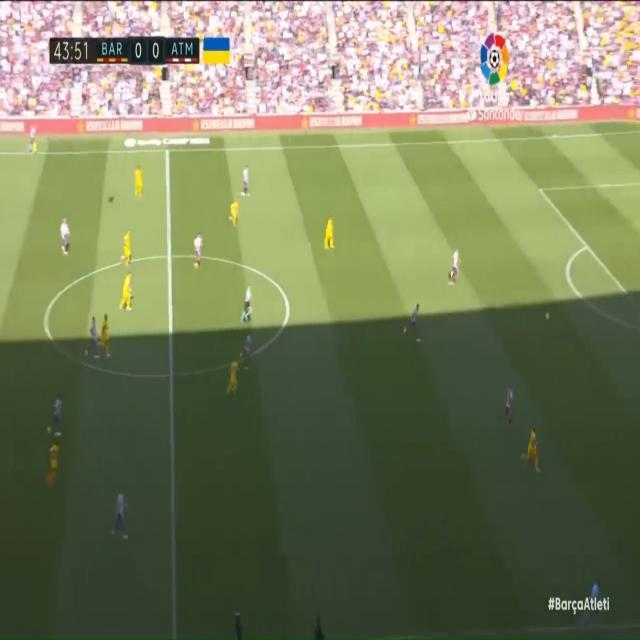ball: (541, 307, 552, 324)
player: (112, 486, 130, 553), (402, 298, 425, 349), (523, 425, 542, 479), (120, 274, 140, 317), (323, 215, 343, 257), (45, 438, 61, 489), (56, 217, 77, 255), (85, 318, 103, 361), (47, 395, 64, 439), (191, 232, 208, 274), (502, 387, 518, 431), (226, 350, 240, 396), (131, 161, 145, 204), (100, 311, 112, 361), (225, 199, 243, 232), (242, 335, 256, 374), (238, 162, 254, 195), (123, 225, 135, 267), (449, 245, 461, 286)
referee: (239, 281, 257, 335), (585, 579, 605, 625), (25, 125, 41, 157)
